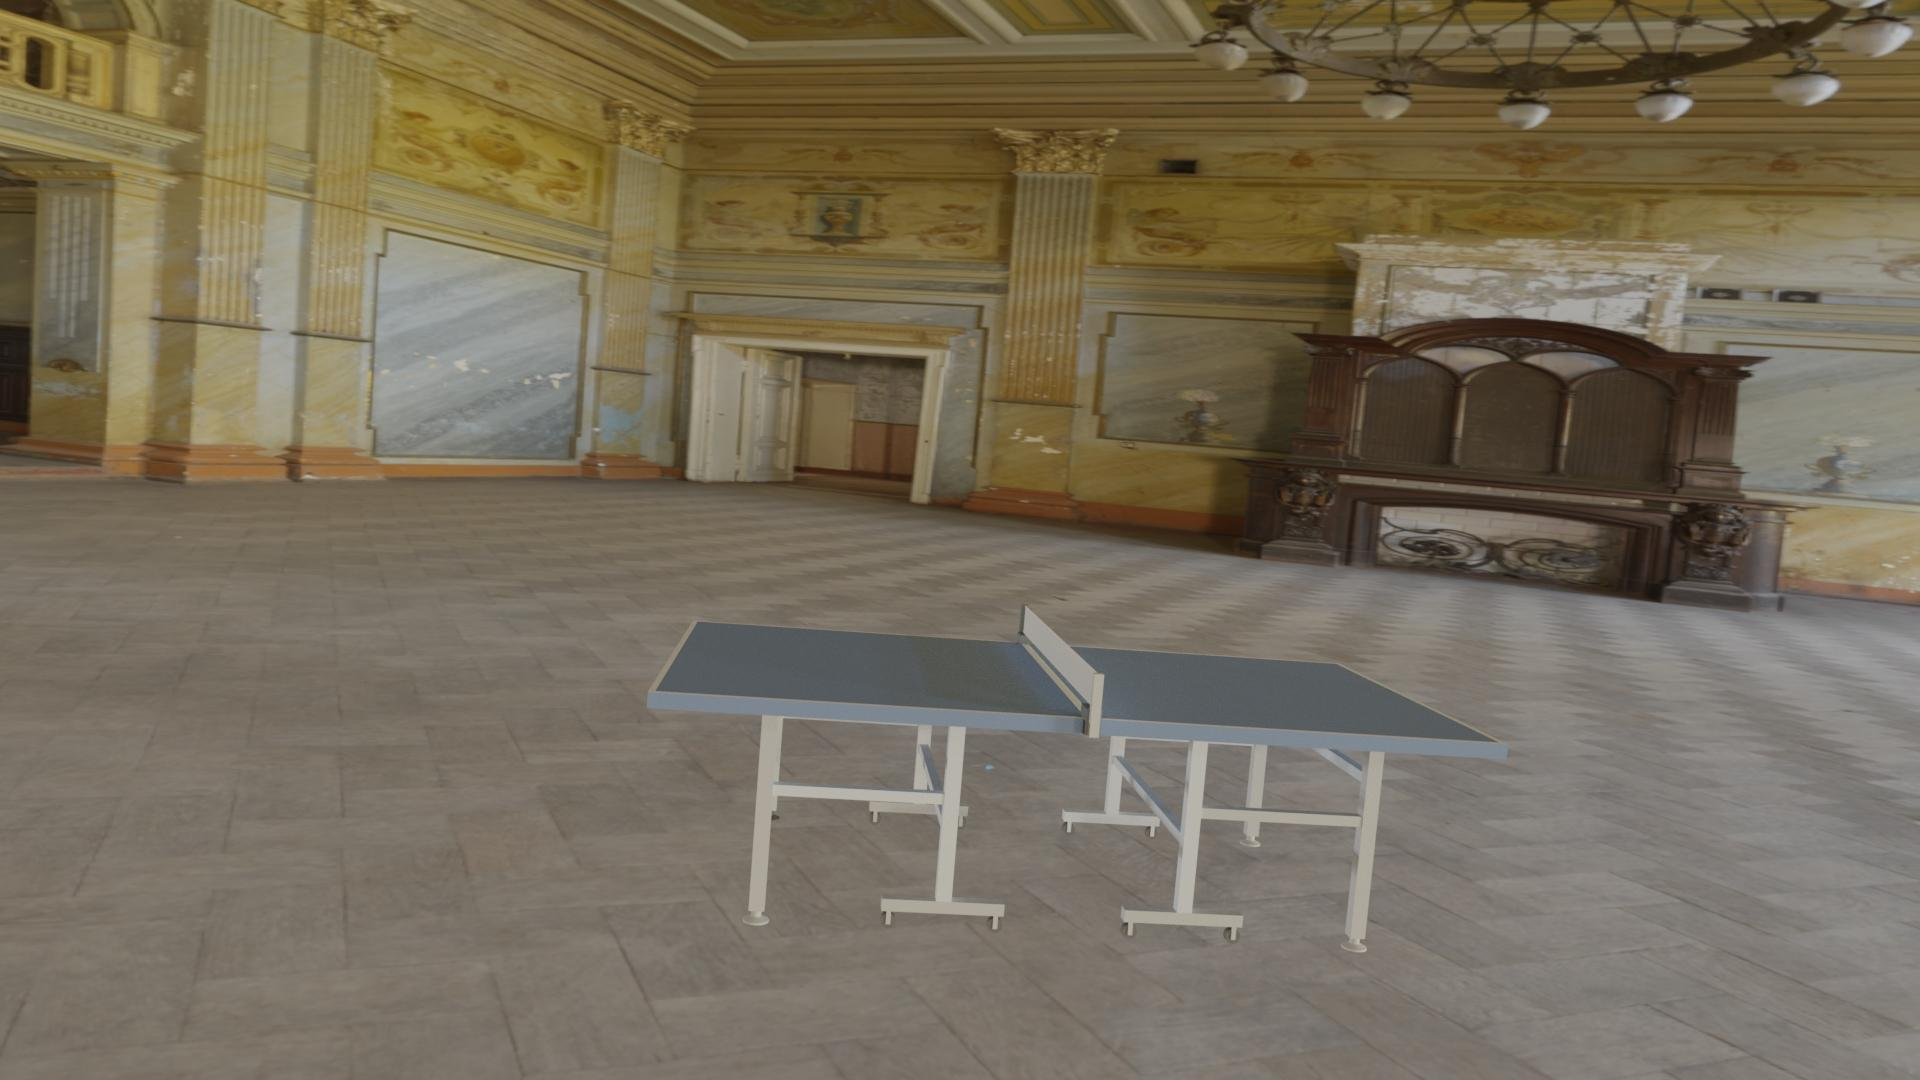table: (655, 621, 1499, 742)
